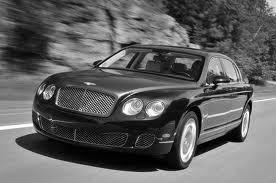car: (31, 44, 256, 172)
